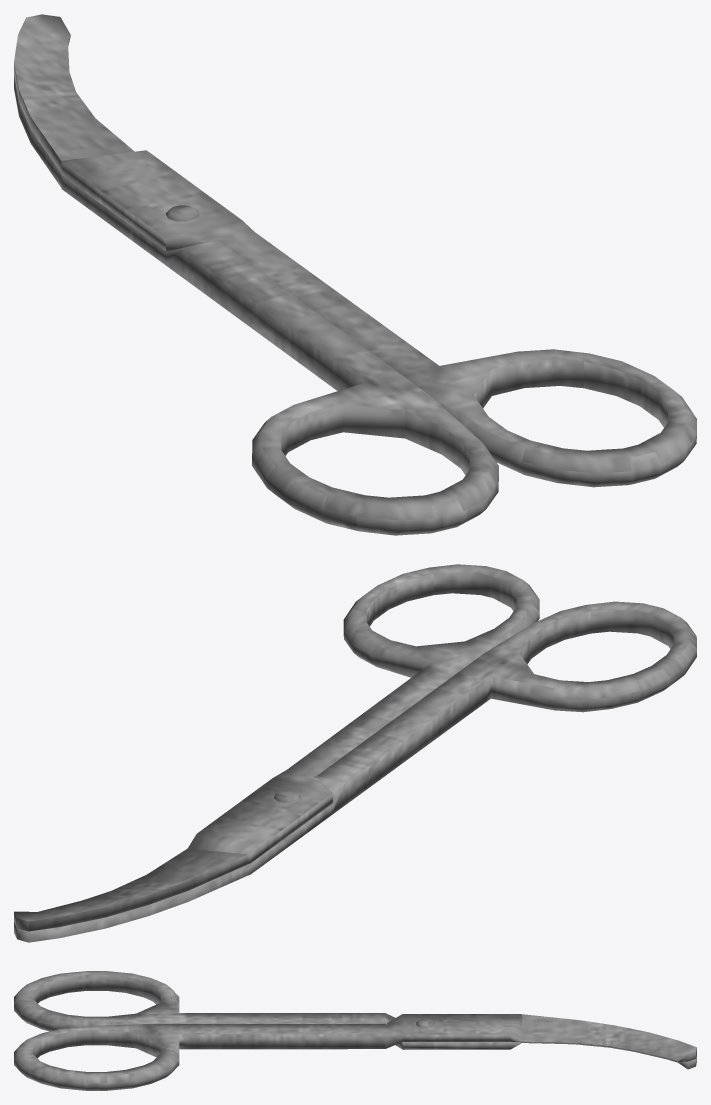
The model's file is Gunting_tali_pusat.fbx.
3 views of the same model, one above another, from view 1: azimuth 30°, elevation 25°; view 2: azimuth 150°, elevation 25°; view 3: azimuth 270°, elevation 25° (orthographic). The views are drawn at different scales.
Visible parts, largest first — view 1: Gunting_tali_pusat; view 2: Gunting_tali_pusat; view 3: Gunting_tali_pusat.
Part boxes in pixels (box(x1,y1,x2,y2)): Gunting_tali_pusat: box(14, 14, 696, 535); Gunting_tali_pusat: box(14, 564, 696, 942); Gunting_tali_pusat: box(14, 971, 696, 1090).
Bounding box in the file's own units: 5.89 × 0.48 × 15.65.
Materials: 1 (1 with a texture image).
